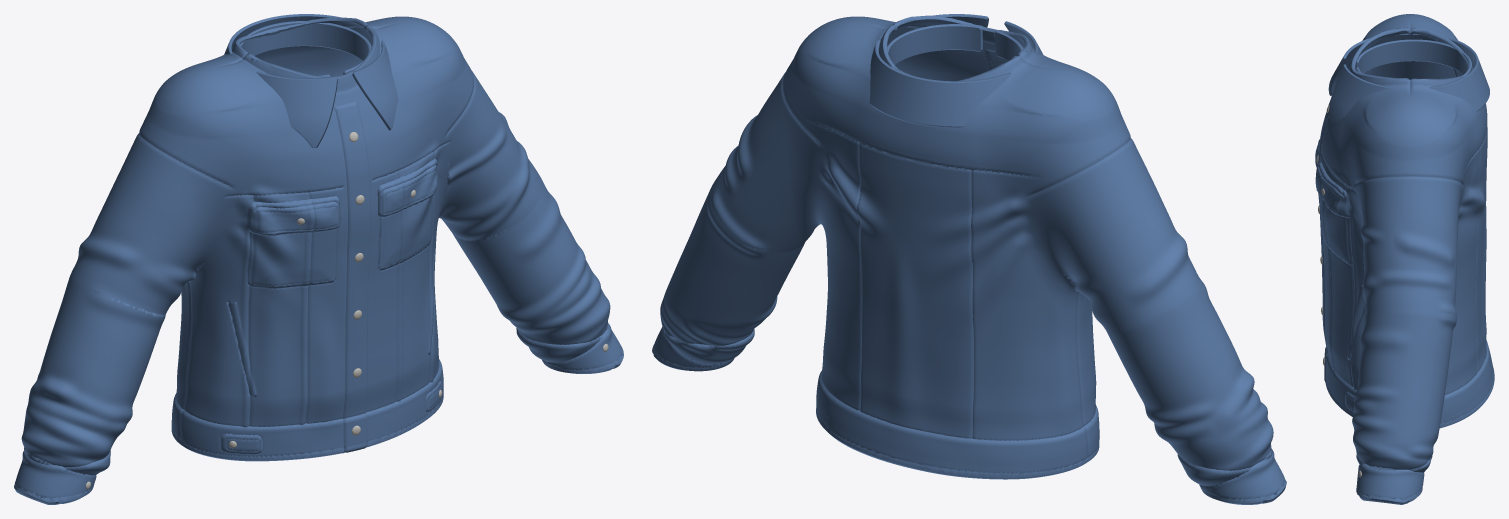
File: 03_chaqueta_vaquera.glb
The picture shows the model from 3 angles, left to right: view 1: azimuth 30°, elevation 25°; view 2: azimuth 150°, elevation 25°; view 3: azimuth 270°, elevation 25°; orthographic projection. The views are drawn at different scales.
Parts seen in each view (by area): view 1: body, hardware; view 2: body; view 3: body.
Part boxes in pixels (x1,y1,x2,y2): body: [14, 14, 623, 504]; hardware: [85, 132, 608, 489]; body: [652, 14, 1286, 504]; body: [1315, 14, 1494, 504].
Bounding box in the file's own units: 1.01 × 0.6095 × 0.3025.
